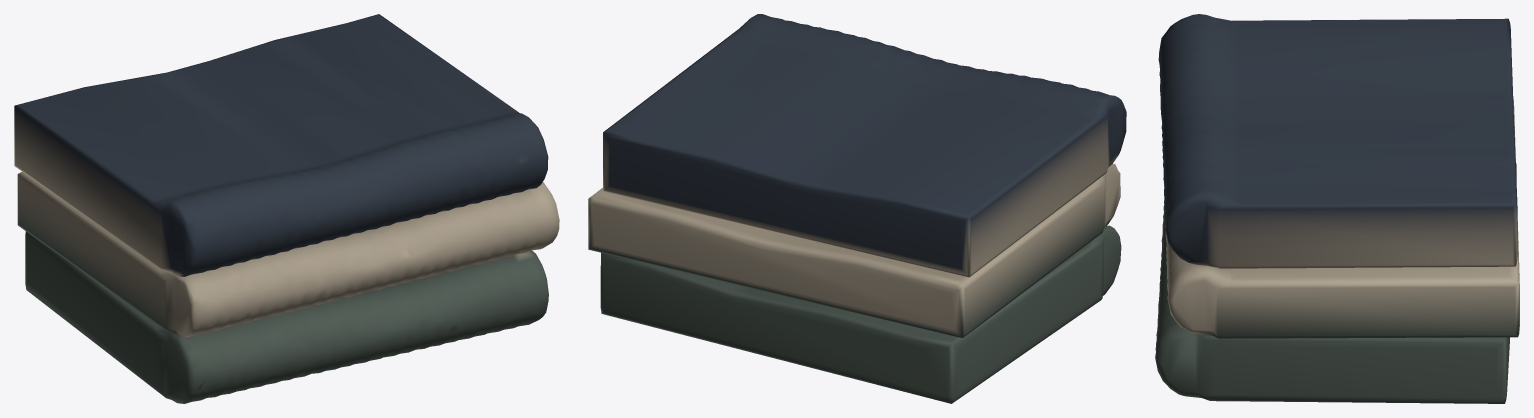
The model's file is fold-ribbed-balanced-49edf36254.glb.
3 renders of one model, left to right at view 1: azimuth 30°, elevation 25°; view 2: azimuth 150°, elevation 25°; view 3: azimuth 270°, elevation 25°, orthographic. The views are drawn at different scales.
Parts seen in each view (by area): view 1: fold-ribbed; view 2: fold-ribbed; view 3: fold-ribbed.
Part boxes in pixels (left/top/right/bottom): fold-ribbed: left=14, top=14, right=559, bottom=403; fold-ribbed: left=588, top=14, right=1126, bottom=403; fold-ribbed: left=1155, top=14, right=1519, bottom=403.
Bounding box in the file's own units: 0.3149 × 0.157 × 0.2494.
